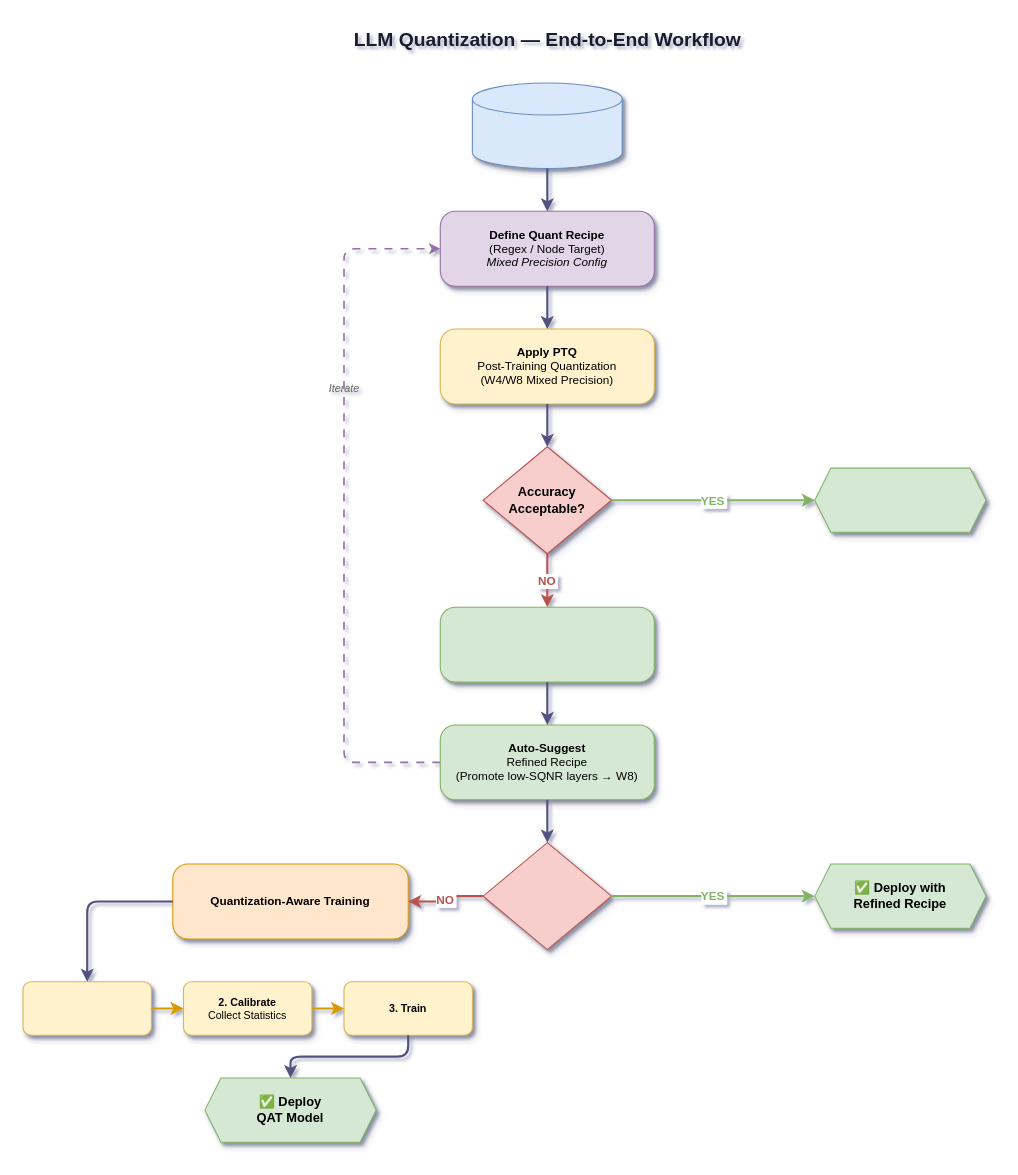
The diagram is 1018 pixels wide and 1175 high, and some of its shapes have lost their labels. Here are the shapes that lost their labels. From the top down, the centre of each, then its label:
At (548,127): "Pre-Trained FP32 Model".
At (900,501): "✅ Deploy Quantized Model".
At (548,646): "Run SQNR Analysis Signal-to-Quantization-Noise Per-Layer Sensitivity Report".
At (548,897): "Degradation Resolved?".
At (88,1009): "1. Prepare Insert FakeQuant".
